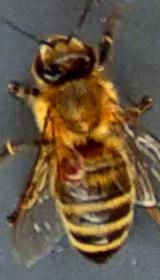varroa_mite: (55, 149, 83, 183)
